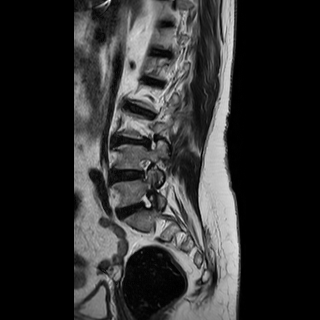RFS0: (133, 188, 157, 215), (134, 152, 154, 184)
